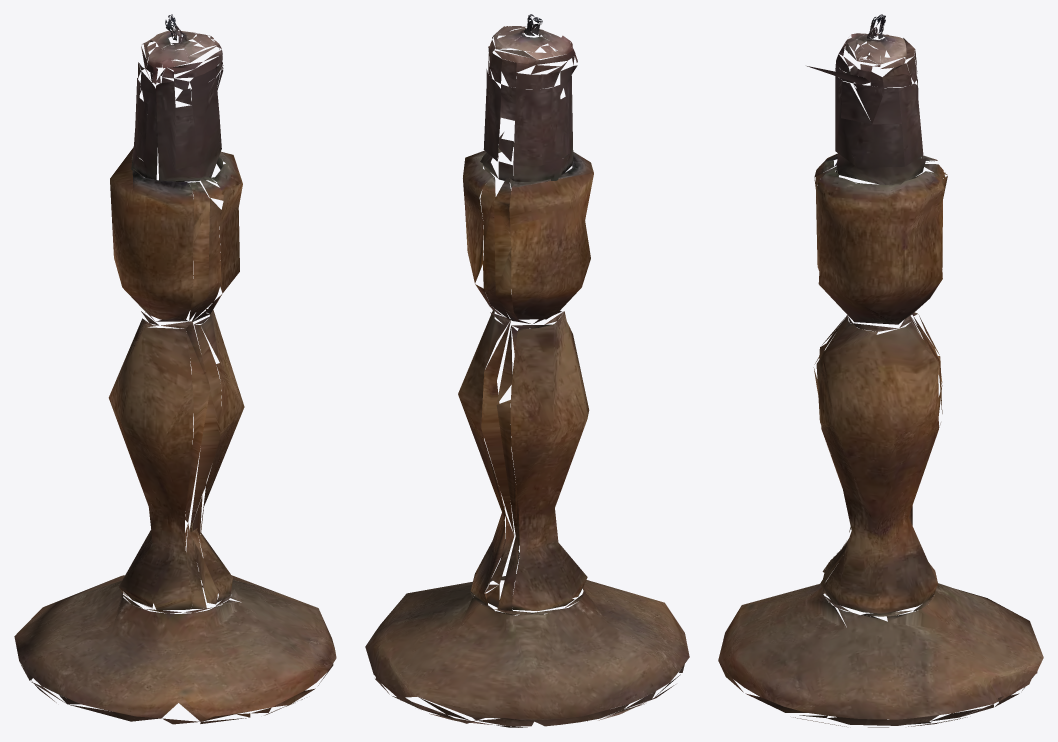
File: candlestick.glb
3 views of the same model, side by side, from view 1: azimuth 30°, elevation 25°; view 2: azimuth 150°, elevation 25°; view 3: azimuth 270°, elevation 25° (orthographic).
Parts seen in each view (by area): view 1: CandlestickMesh; view 2: CandlestickMesh; view 3: CandlestickMesh.
Part boxes in pixels (x1,y1,x2,y2): CandlestickMesh: [14, 14, 336, 724]; CandlestickMesh: [365, 14, 689, 727]; CandlestickMesh: [718, 14, 1043, 727].
Size of the model in its own units: 0.098 by 0.2197 by 0.1002.
Materials: 1 (1 with a texture image).
